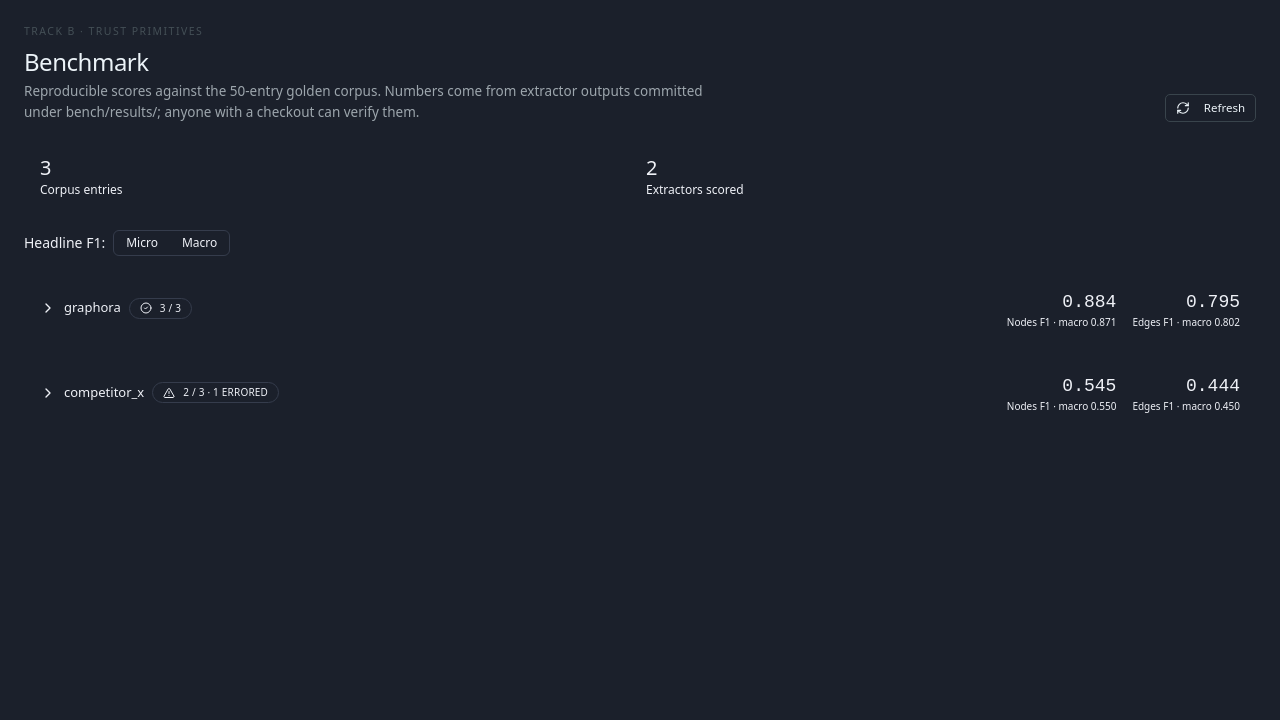
Test: BenchPage › expands an extractor card to show per-entry detail with errored row
This screenshot has width=1280, height=720.
Click the button "competitor_x". click: point(104, 392)
box: [40, 372, 1240, 413]
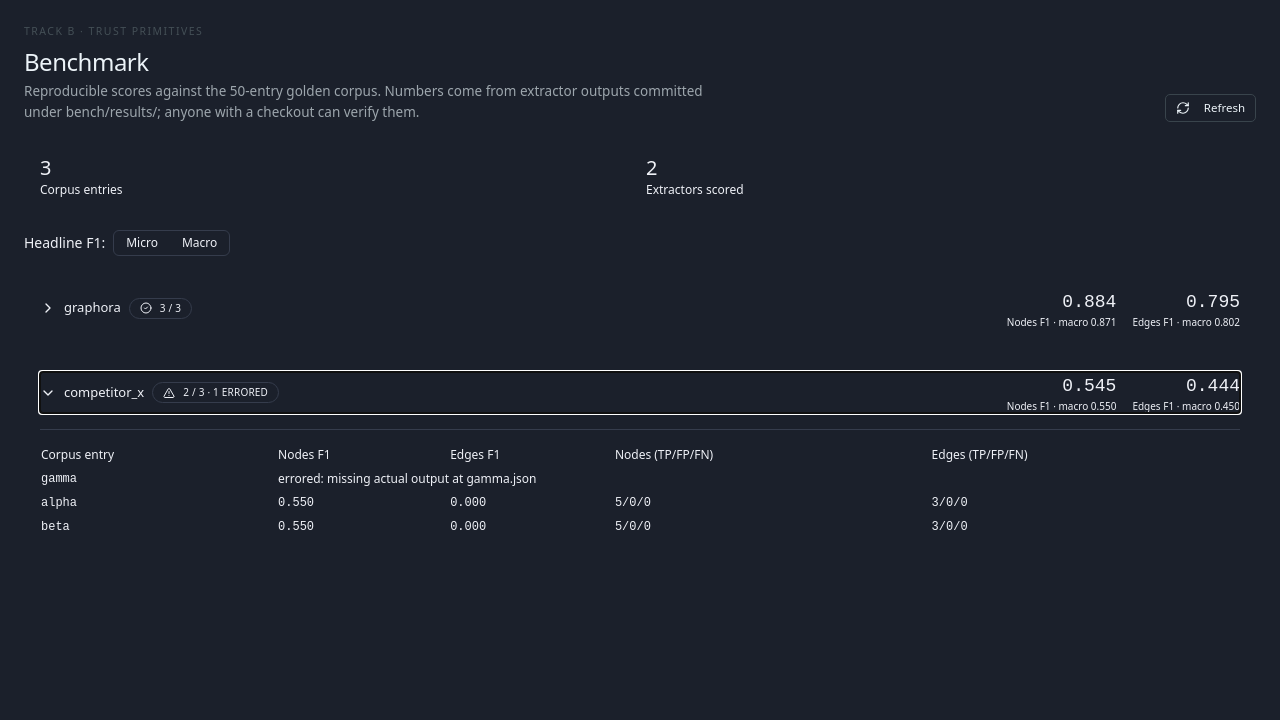
Result: the text "errored: missing actual output at gamma.json" is shown at [277, 467, 1240, 491]
